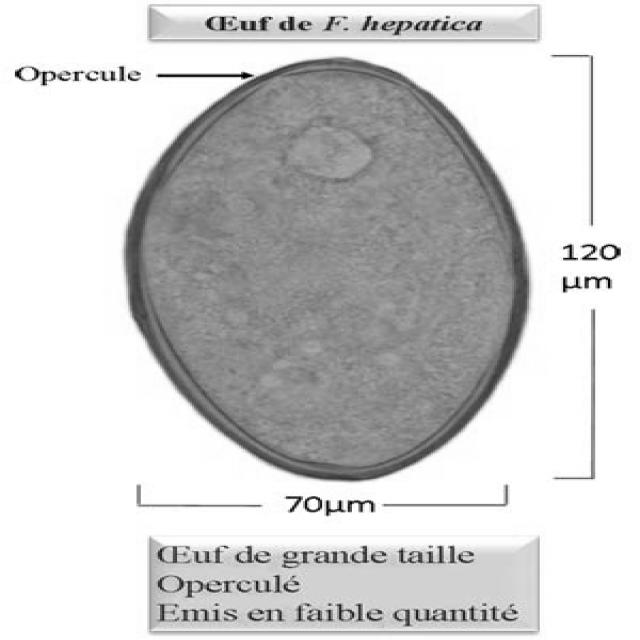Fasciola Hepatica: (102, 46, 542, 492)
